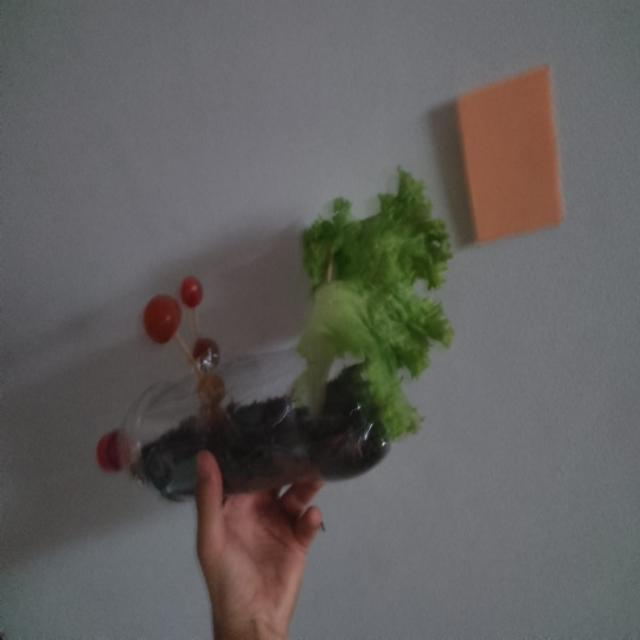card: (457, 67, 563, 241)
fruit_maturation: (197, 373, 225, 407)
fully_grown: (143, 294, 182, 343), (180, 276, 202, 308)
